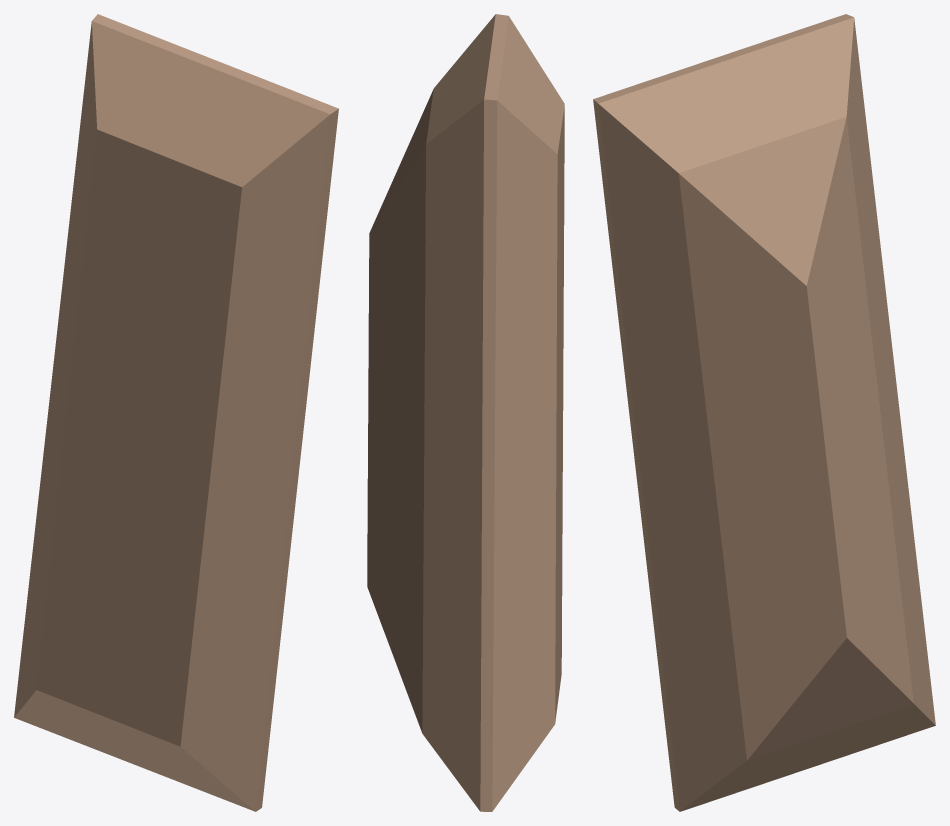
File: BL4_Spacers_BaguetteStone.001 3.glb
3 renders of one model, left to right at view 1: azimuth 30°, elevation 25°; view 2: azimuth 150°, elevation 25°; view 3: azimuth 270°, elevation 25°, orthographic. The views are drawn at different scales.
Visible parts, largest first — view 1: BL4_Spacers_BaguetteStone.001; view 2: BL4_Spacers_BaguetteStone.001; view 3: BL4_Spacers_BaguetteStone.001.
Boxes of the visible parts, box(x1,y1,x2,y2) form: BL4_Spacers_BaguetteStone.001: box(14, 14, 338, 811); BL4_Spacers_BaguetteStone.001: box(367, 14, 564, 811); BL4_Spacers_BaguetteStone.001: box(593, 14, 935, 811).
Bounding box in the file's own units: 0.1544 × 0.5166 × 0.2122.
